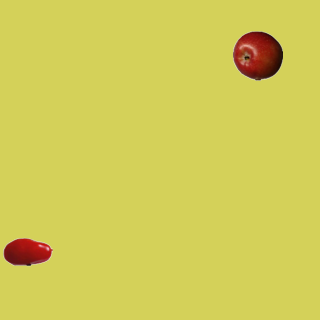Apple Braeburn: (232, 30, 282, 80)
Tomato 2: (2, 226, 52, 276)
